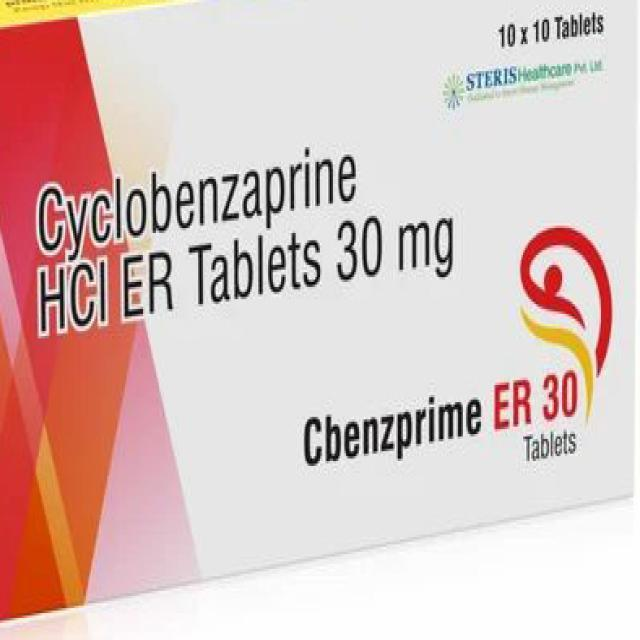drug-name: (304, 368, 583, 472)
